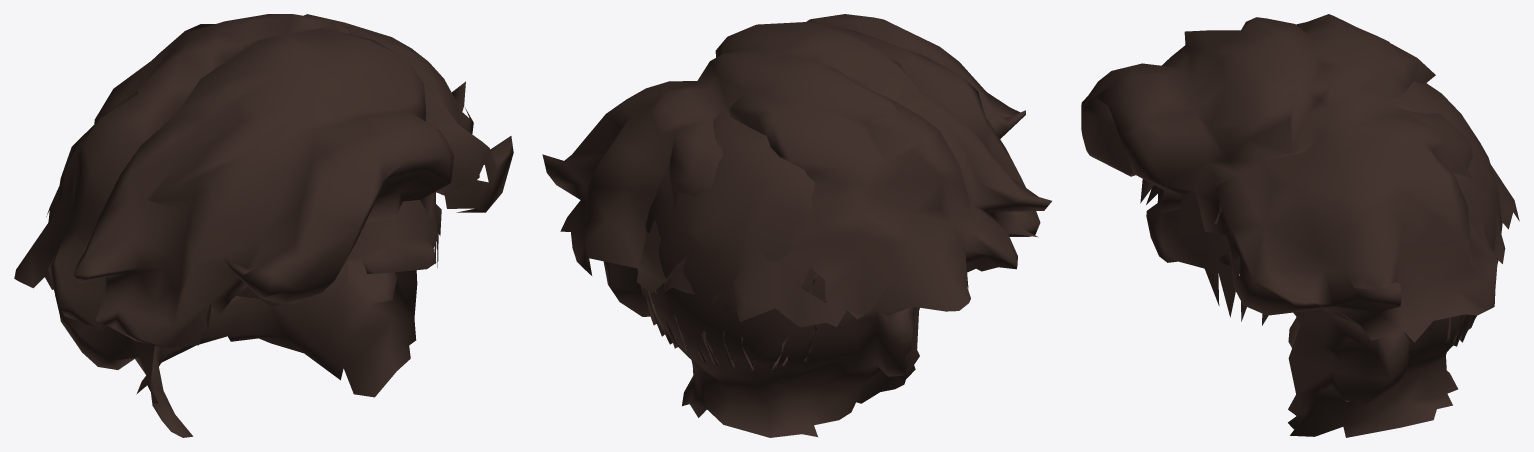
The model's file is waves.glb.
3 views of the same model, side by side, from view 1: azimuth 30°, elevation 25°; view 2: azimuth 150°, elevation 25°; view 3: azimuth 270°, elevation 25° (orthographic). The views are drawn at different scales.
Parts seen in each view (by area): view 1: Hair, HairScalp; view 2: Hair, HairScalp, HairPulledRootStrands; view 3: Hair, HairScalp, HairPulledRootStrands.
Part boxes in pixels (bbox=[...]): Hair: bbox=[14, 14, 513, 347]; HairScalp: bbox=[55, 191, 438, 437]; Hair: bbox=[542, 14, 1051, 327]; HairScalp: bbox=[603, 107, 919, 437]; HairPulledRootStrands: bbox=[637, 227, 825, 371]; Hair: bbox=[1081, 14, 1519, 342]; HairScalp: bbox=[1146, 81, 1502, 437]; HairPulledRootStrands: bbox=[1214, 212, 1476, 346].
Bounding box in the file's own units: 0.6333 × 0.485 × 0.5284.
